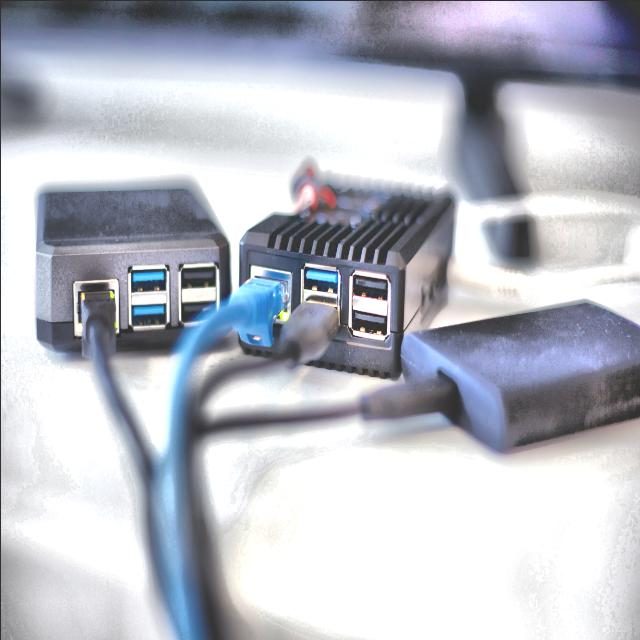HUB: (176, 183, 452, 377), (35, 186, 229, 361)
